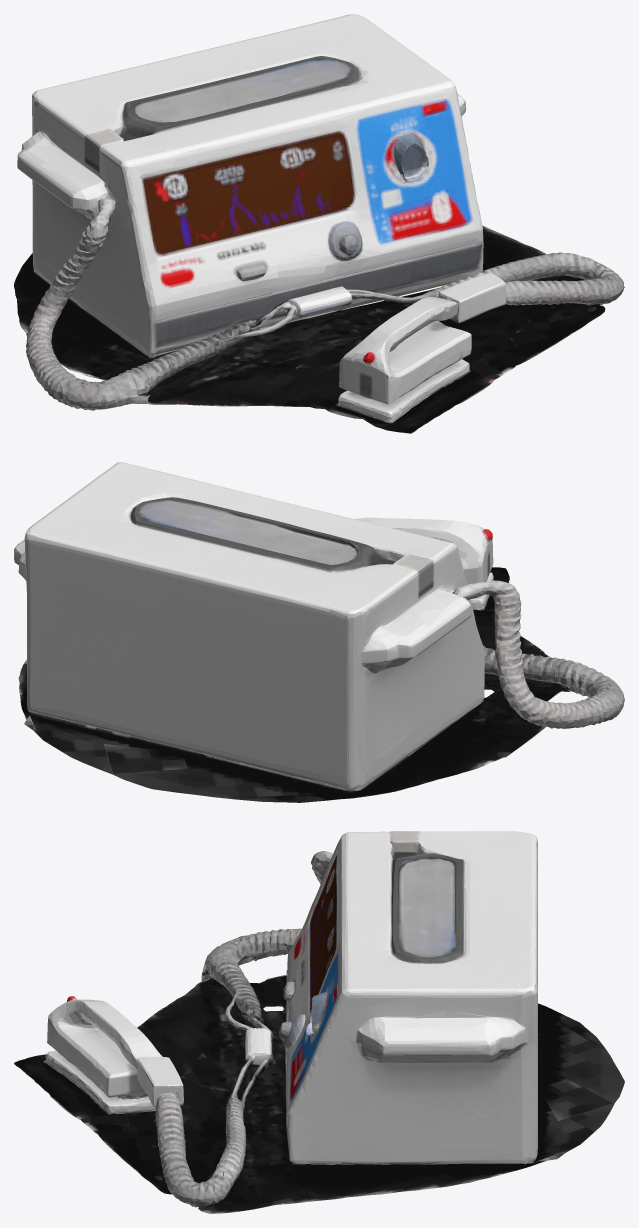
File: Defibillator.glb
3 views of the same model, one above another, from view 1: azimuth 30°, elevation 25°; view 2: azimuth 150°, elevation 25°; view 3: azimuth 270°, elevation 25° (orthographic). The views are drawn at different scales.
Visible parts, largest first — view 1: Defibillator; view 2: Defibillator; view 3: Defibillator.
Boxes of the visible parts, x1,y1,x2,y2 form: Defibillator: (14,14,624,433); Defibillator: (14,462,624,802); Defibillator: (14,831,624,1213).
Bounding box in the file's own units: 1 × 0.3193 × 0.9771.
1 material, 1 textured.
